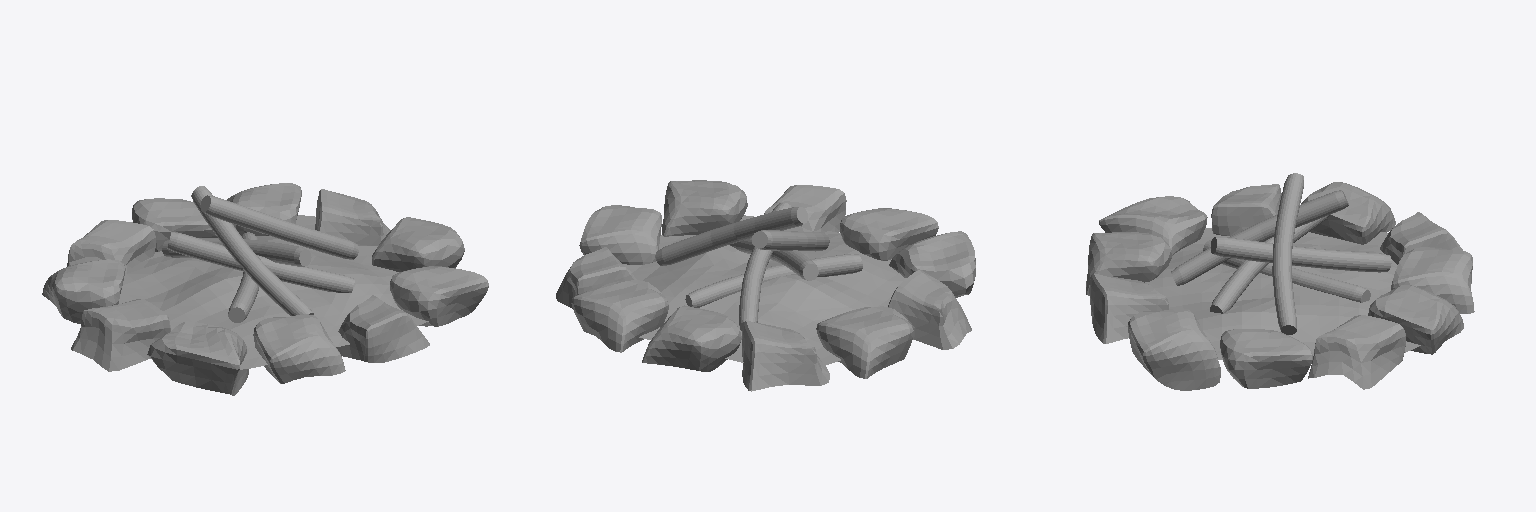
The model's file is firepit.obj.
3 renders of one model, left to right at view 1: azimuth 30°, elevation 25°; view 2: azimuth 150°, elevation 25°; view 3: azimuth 270°, elevation 25°, orthographic.
Parts seen in each view (by area): view 1: Ohniste_Circle.004; view 2: Ohniste_Circle.004; view 3: Ohniste_Circle.004.
Boxes of the visible parts, x1,y1,x2,y2 form: Ohniste_Circle.004: [42, 183, 488, 395]; Ohniste_Circle.004: [556, 180, 975, 391]; Ohniste_Circle.004: [1086, 173, 1474, 390].
Bounding box in the file's own units: 12.07 × 3.92 × 10.84.